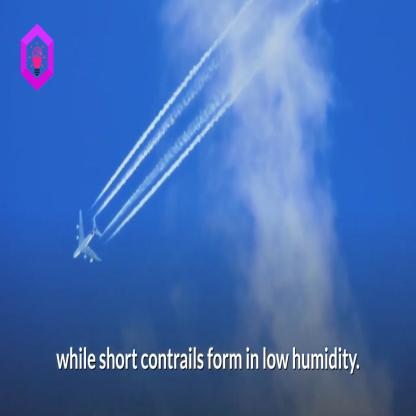plane: (67, 204, 106, 269)
